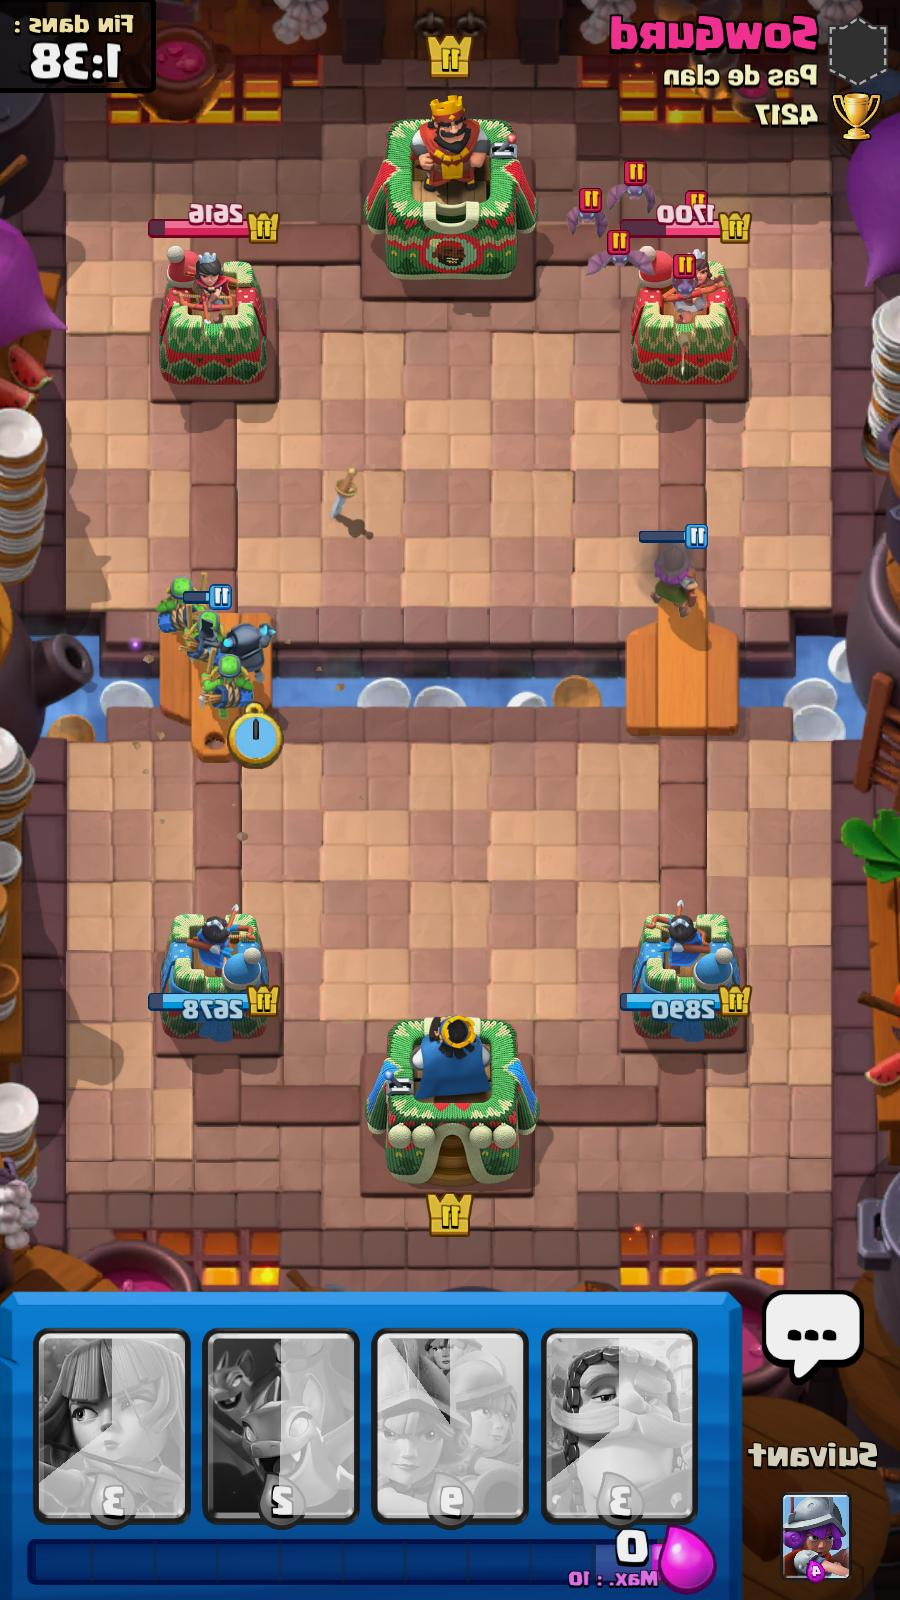bat: (609, 160, 657, 216), (584, 233, 643, 278), (562, 186, 612, 236)
gobelin_lances: (153, 562, 204, 653), (198, 653, 256, 721), (182, 585, 229, 664)
mini_PEKKA: (200, 618, 281, 682)
mousquetaire: (633, 516, 711, 627)
